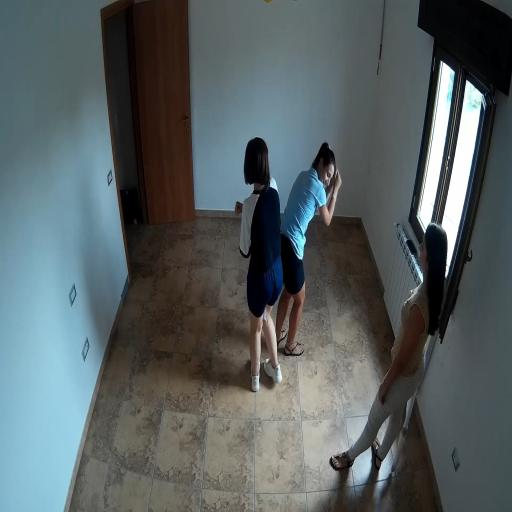nao-violencia: (226, 106, 347, 399)
